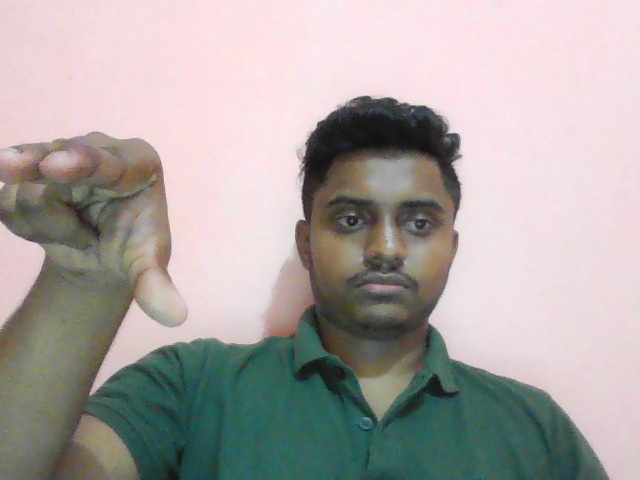No: (1, 117, 205, 331)
